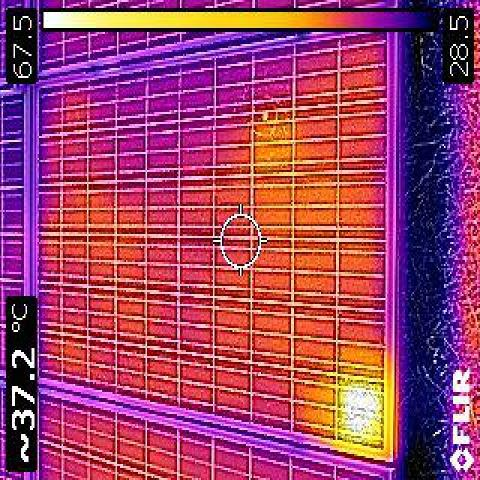fault: (341, 388, 385, 449)
